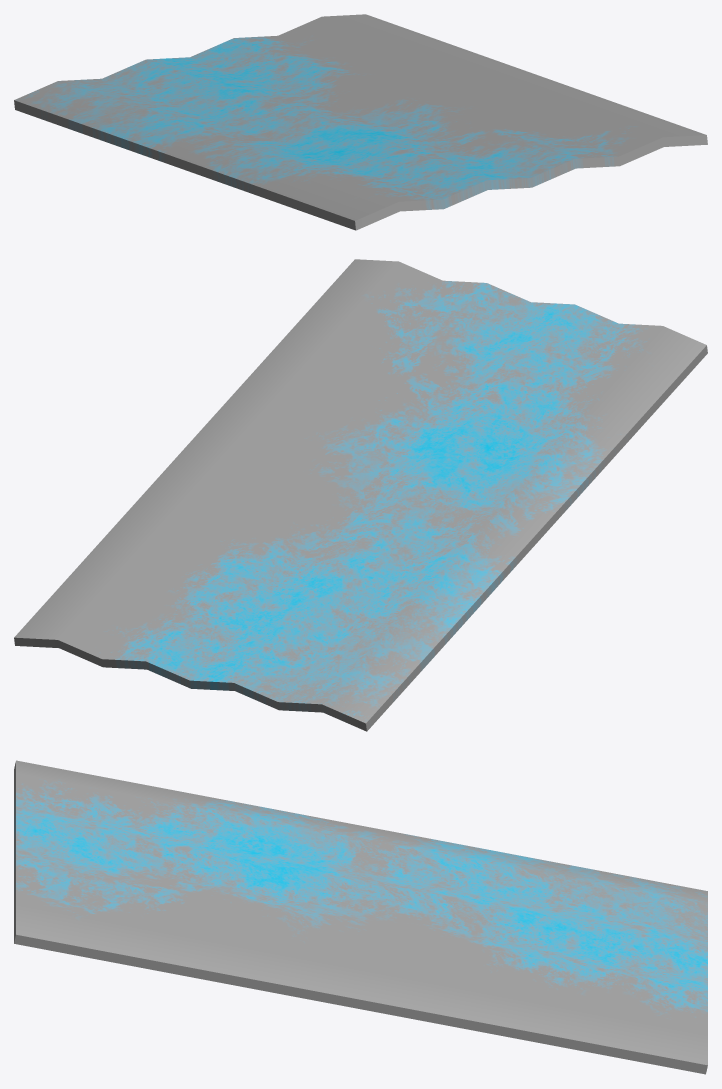
Rendered from planche_saut.fbx.
3 views of the same model, one above another, from view 1: azimuth 30°, elevation 25°; view 2: azimuth 150°, elevation 25°; view 3: azimuth 270°, elevation 25° (orthographic).
Visible parts, largest first — view 1: planche_de_saut1; view 2: planche_de_saut1; view 3: planche_de_saut1.
Part boxes in pixels (x1,y1,x2,y2): planche_de_saut1: (14, 14, 707, 230); planche_de_saut1: (14, 259, 707, 731); planche_de_saut1: (14, 760, 707, 1074).
Bounding box in the file's own units: 91.29 × 36.25 × 154.
1 material, 1 textured.
